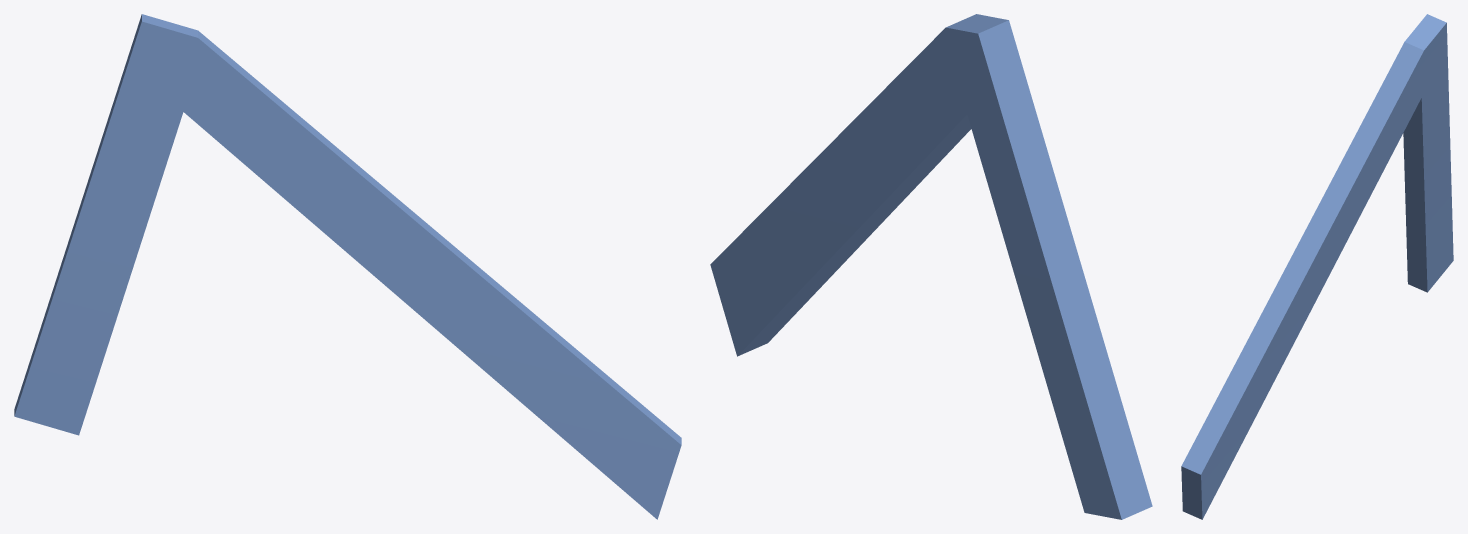
Rendered from New_Number_7.gltf.
3 renders of one model, left to right at view 1: azimuth 30°, elevation 25°; view 2: azimuth 150°, elevation 25°; view 3: azimuth 270°, elevation 25°, orthographic. The views are drawn at different scales.
Parts seen in each view (by area): view 1: Part 61; view 2: Part 61; view 3: Part 61.
Boxes of the visible parts, bbox=[...] form: Part 61: bbox=[14, 14, 681, 519]; Part 61: bbox=[710, 14, 1152, 519]; Part 61: bbox=[1181, 14, 1453, 519].
Size of the model in its own units: 0.00507 by 0.00445 by 0.003.
